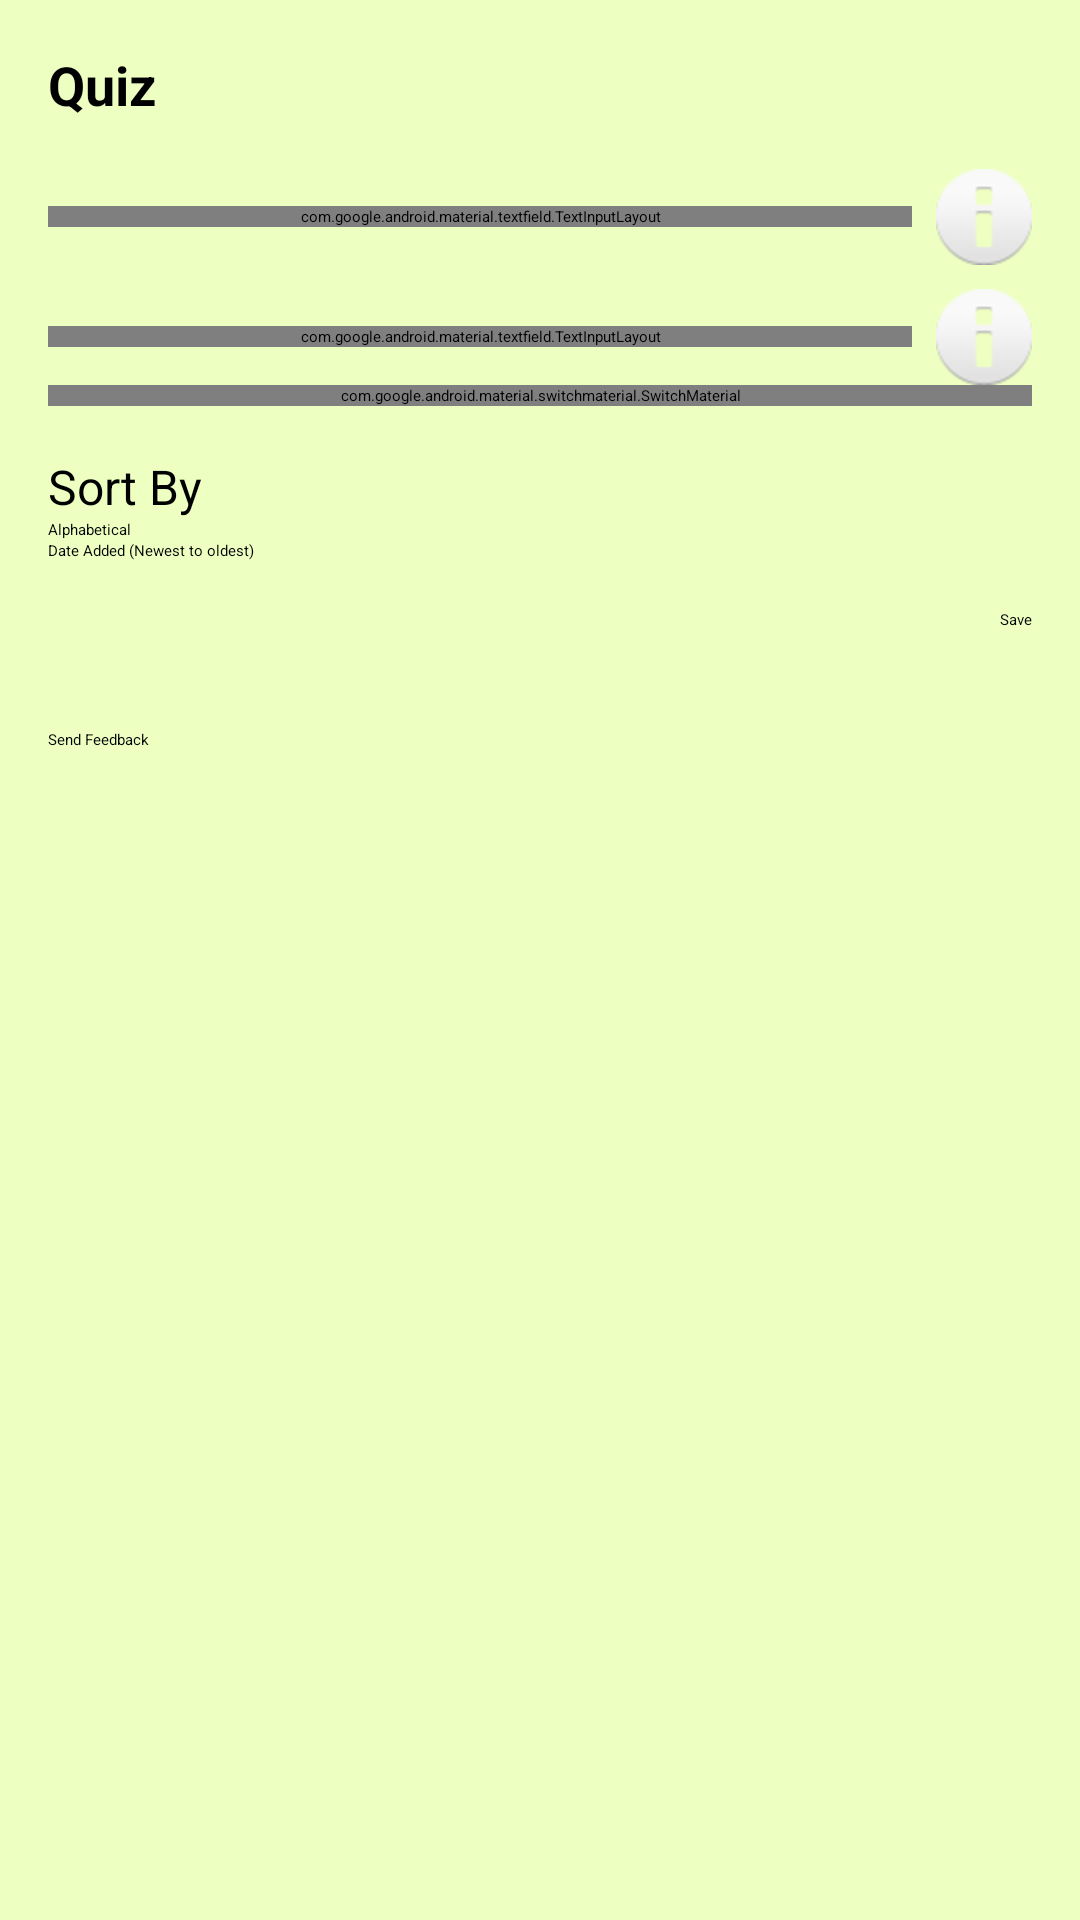

Icon click points for this 1080px x 1920px phone screenshot, format (x=x, y=y):
info: (x=984, y=217), (x=984, y=337)
